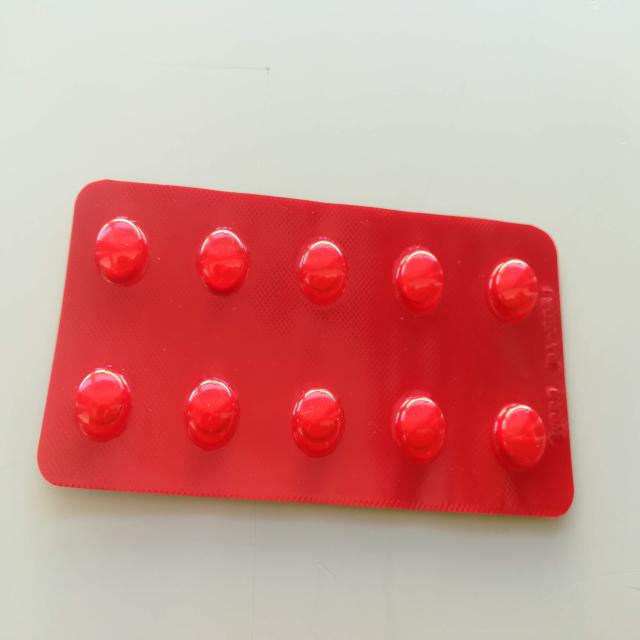Pill: (68, 363, 140, 448), (387, 390, 457, 466), (180, 376, 244, 450), (291, 234, 354, 308), (387, 239, 448, 315), (289, 380, 349, 457), (192, 219, 252, 295), (88, 212, 152, 283), (490, 400, 551, 471), (489, 254, 544, 326)
